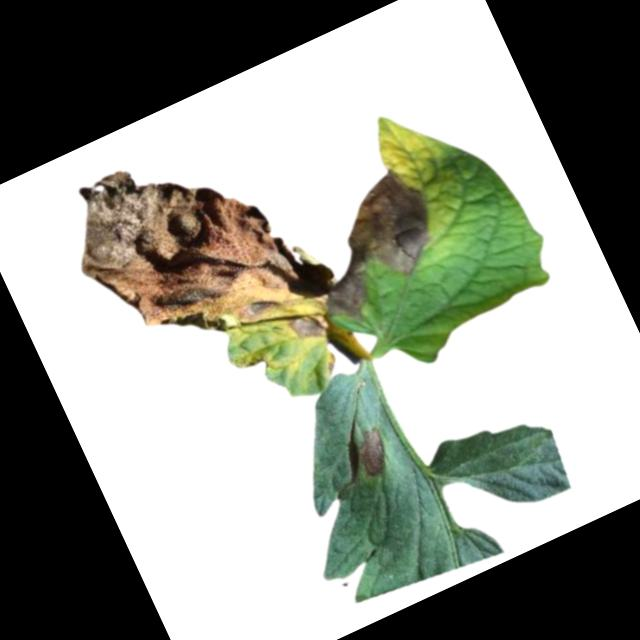Early_blight: (48, 121, 307, 380), (288, 162, 459, 326), (349, 424, 395, 479), (288, 309, 327, 349), (320, 352, 341, 375)
